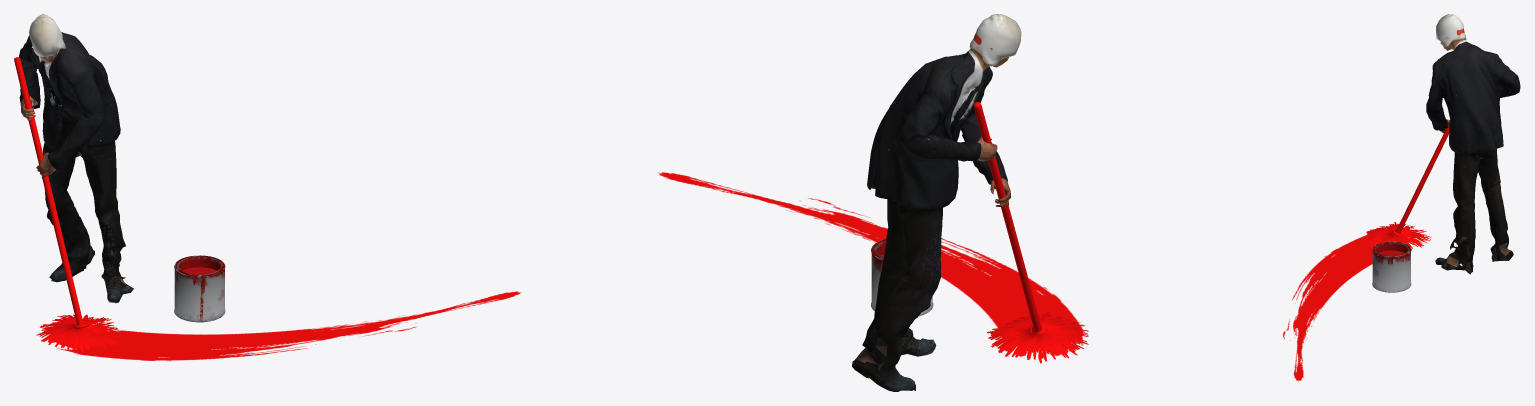
The model's file is ElijahAikeLondonBridge.opt.glb.
The picture shows the model from 3 angles, left to right: view 1: azimuth 30°, elevation 25°; view 2: azimuth 150°, elevation 25°; view 3: azimuth 270°, elevation 25°; orthographic projection. The views are drawn at different scales.
Visible parts, largest first — view 1: Pose01_High_500K, PaintStroke, Object_4, Object_8, Object_10; view 2: Pose01_High_500K, PaintStroke, Object_8, Object_10, Object_4; view 3: Pose01_High_500K, PaintStroke, Object_4, Object_8, Object_10.
Part boxes in pixels (x1,y1,x2,y2): Pose01_High_500K: [19, 14, 133, 303]; PaintStroke: [55, 291, 521, 361]; Object_4: [174, 255, 225, 322]; Object_8: [36, 314, 122, 351]; Object_10: [14, 57, 88, 329]; Pose01_High_500K: [852, 14, 1021, 391]; PaintStroke: [658, 172, 1084, 356]; Object_8: [987, 311, 1088, 363]; Object_10: [973, 102, 1047, 334]; Object_4: [871, 239, 933, 316]; Pose01_High_500K: [1426, 14, 1520, 274]; PaintStroke: [1283, 233, 1375, 381]; Object_4: [1372, 241, 1411, 292]; Object_8: [1362, 222, 1431, 250]; Object_10: [1391, 124, 1449, 236].
Bounding box in the file's own units: 6.68 × 3.95 × 4.74.
4 materials, 4 textured.
